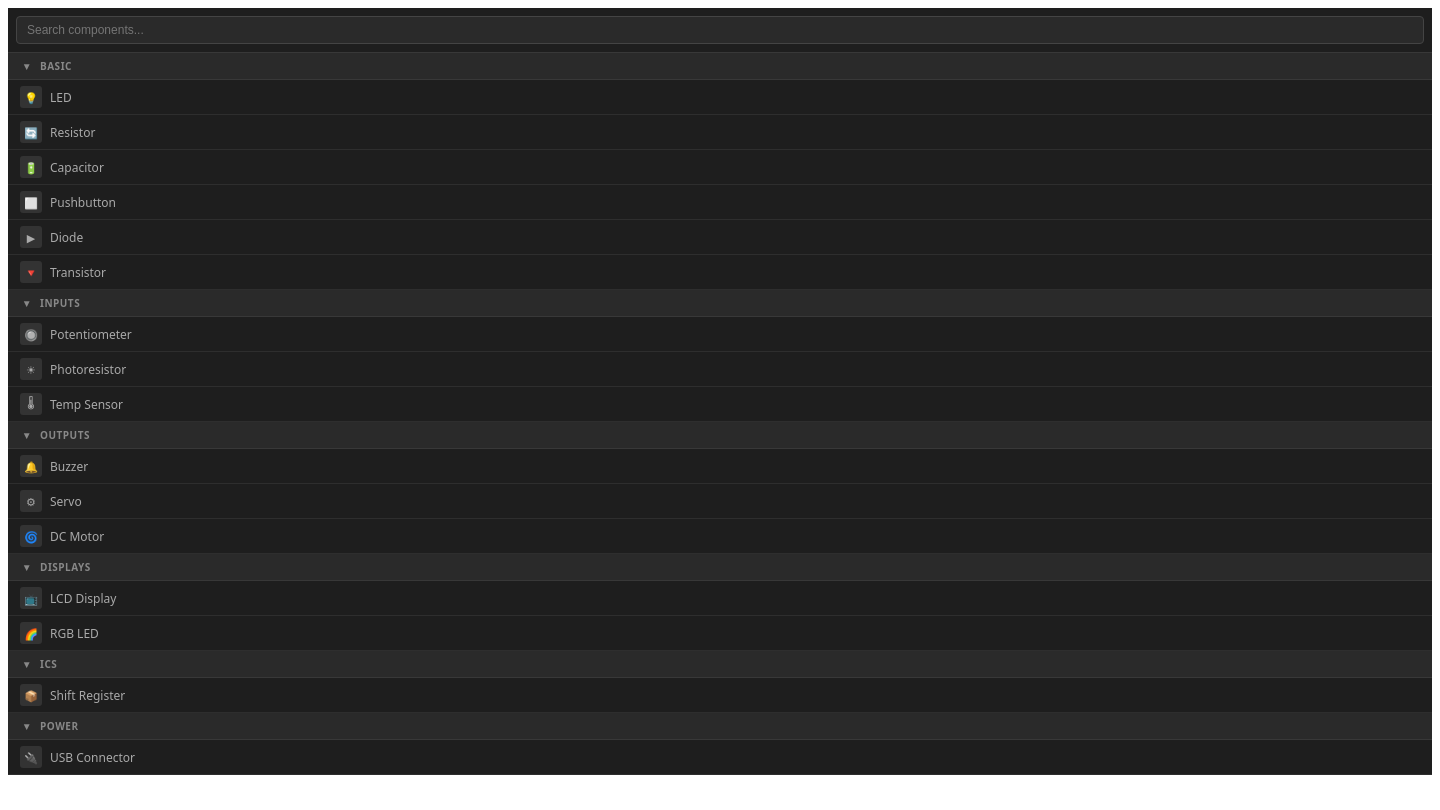
Test: TinkercadPalette › filters components when search query is entered
Step 1. Type "resistor" into the field with placeholder "Search components..." → (720, 30), box [16,16,1424,44]
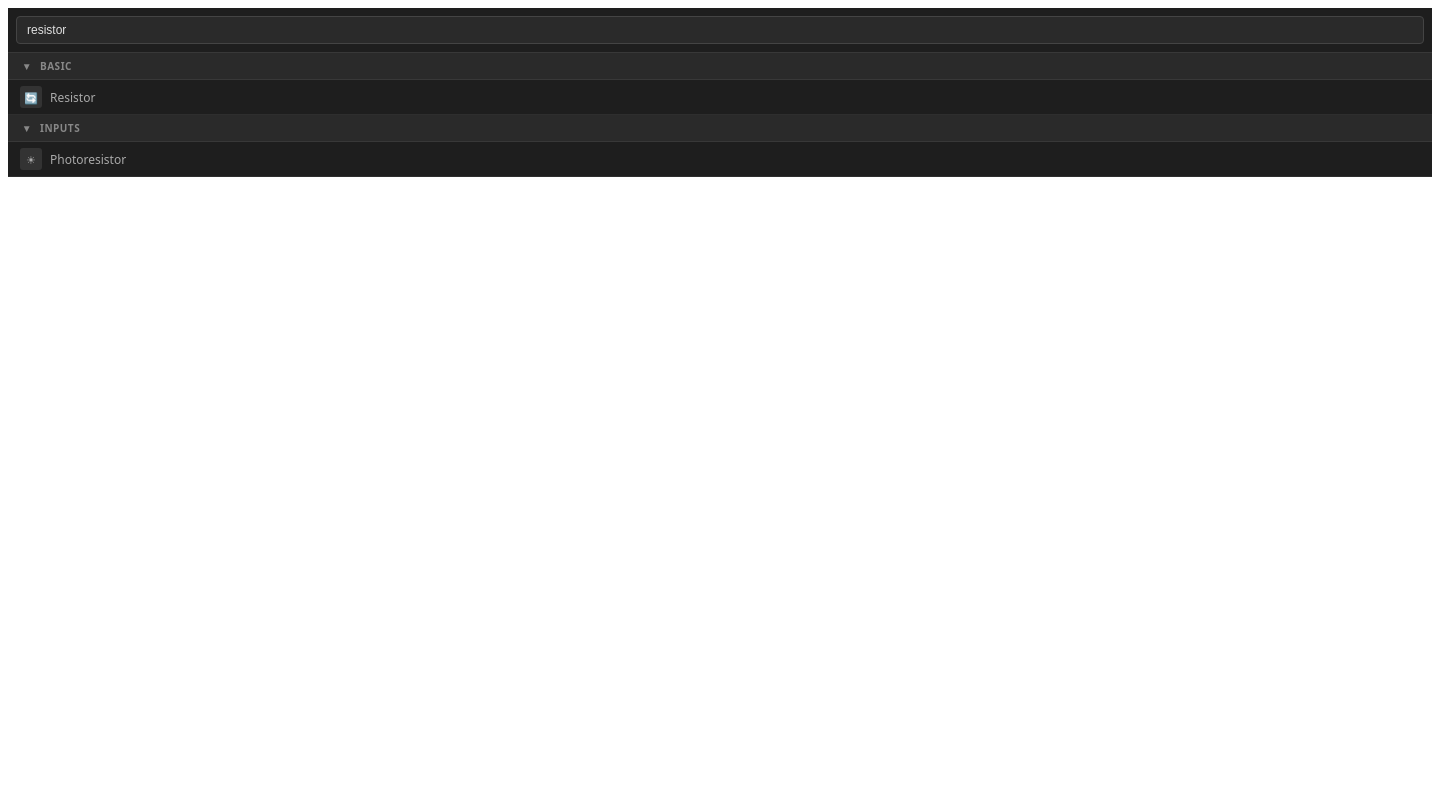
Expected: the text "Resistor" is shown, [50,88,95,106]
Now the text "LED" is gone
